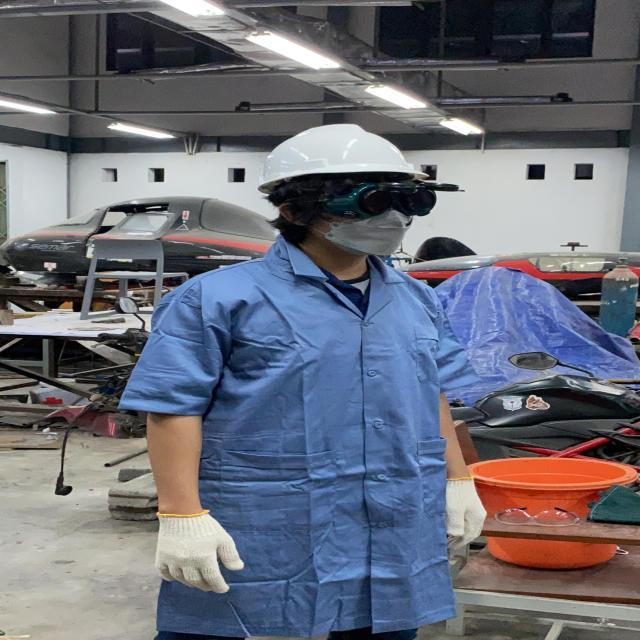glasses: (288, 176, 470, 221)
